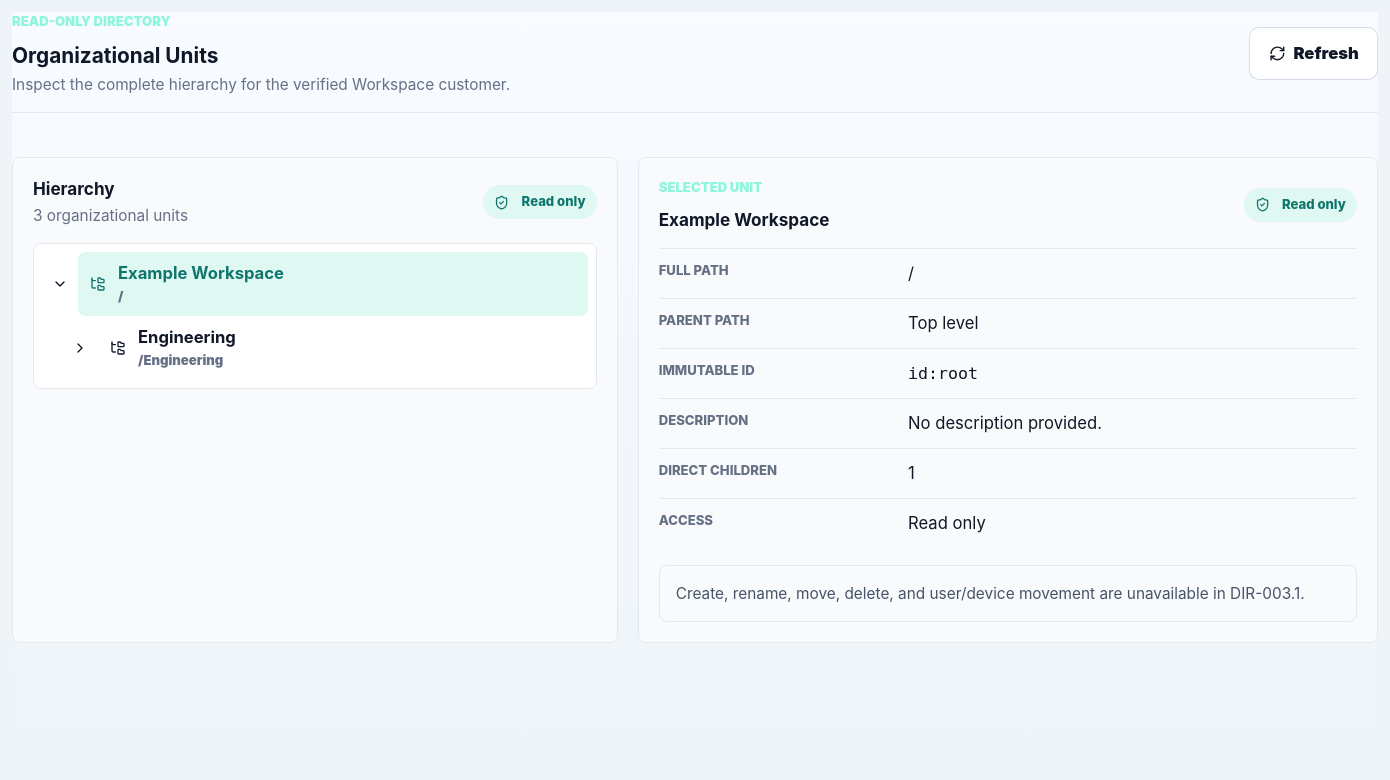
it: OrganizationalUnits › loads the full hierarchy, expands nodes and shows read-only details
Check: the element named "Organizational Units hierarchy" is shown, box [33,243,597,389]
Check: the text "3 organizational units" is shown, box [33,204,188,227]
Click the button named "Expand Engineering" at [80, 348], box [62,326,98,370]
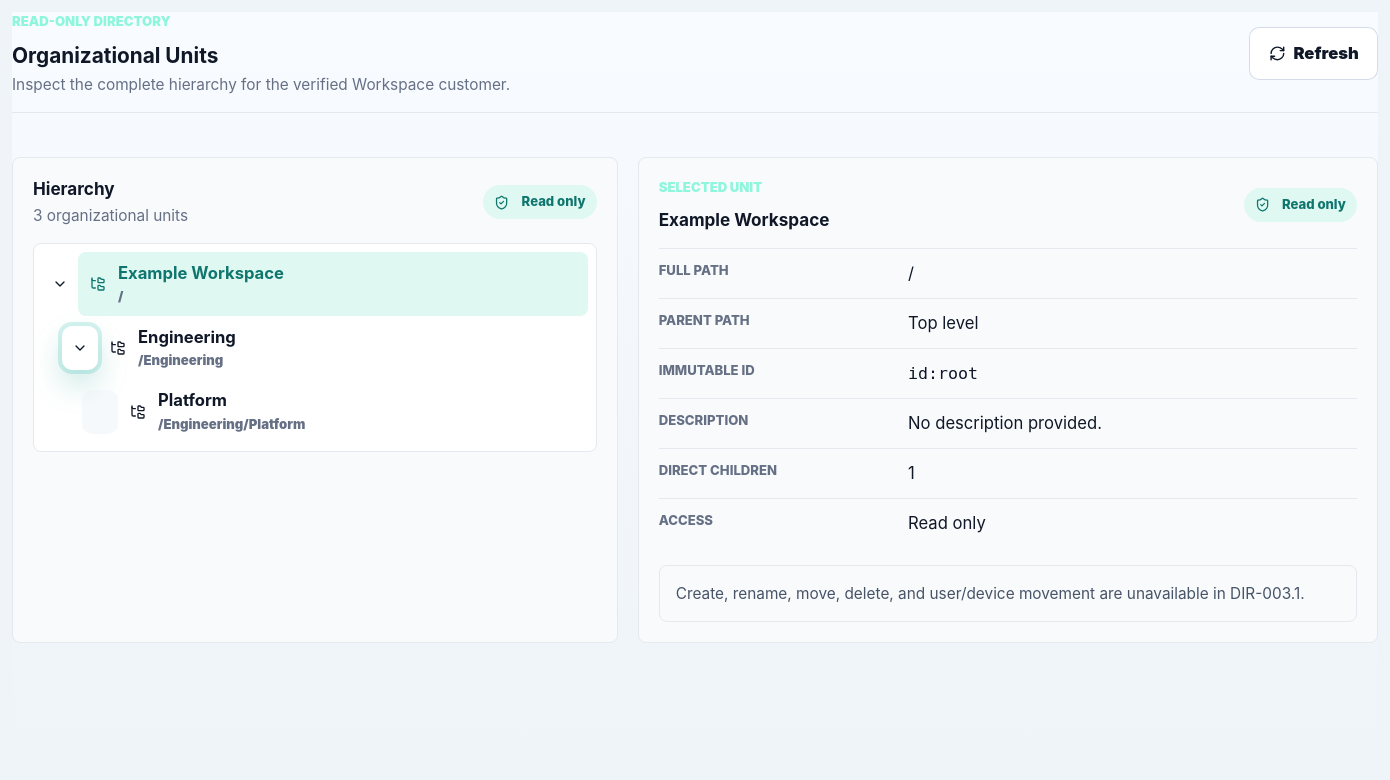
Click the list item with aria-label "Engineering (/Engineering)" at [187, 337], box [98,316,588,380]
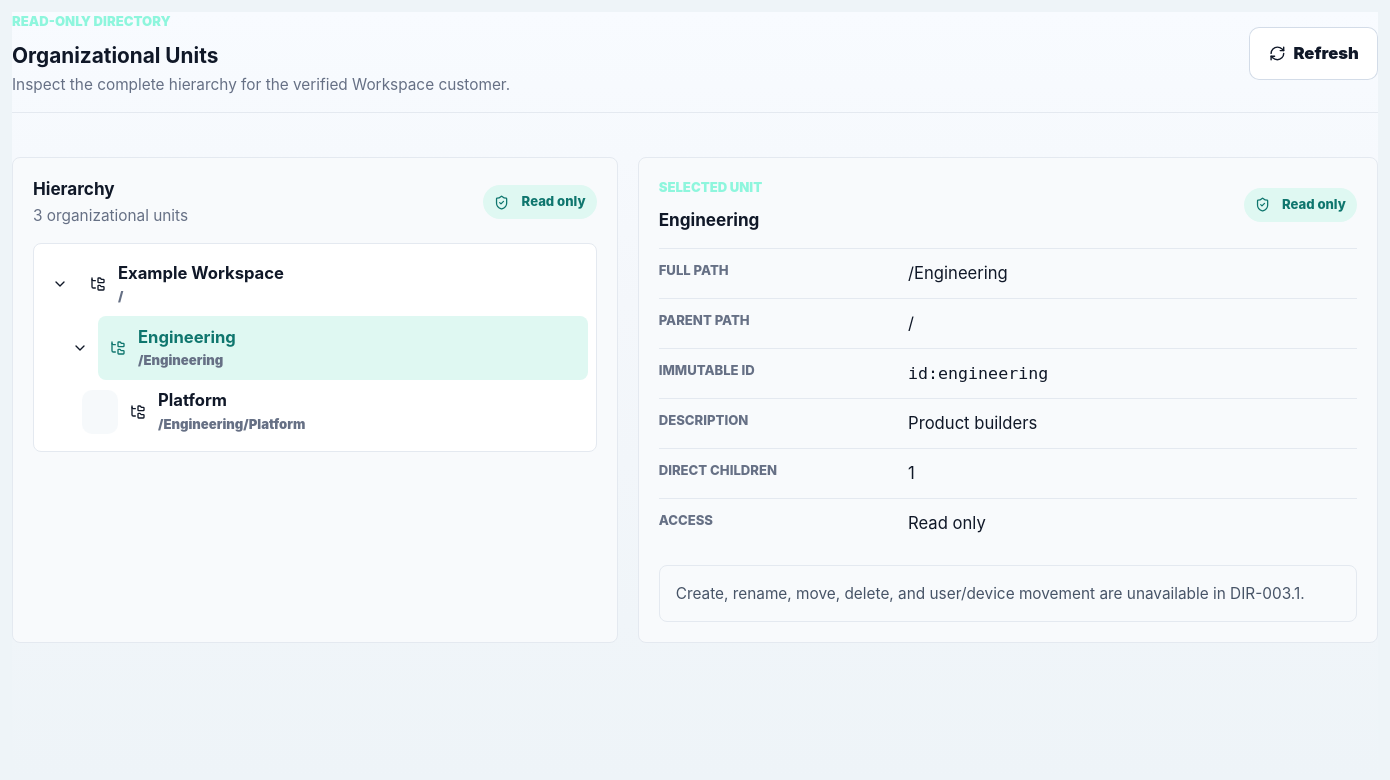
Check: the list item with aria-label "Platform (/Engineering/Platform)" is shown, box [118,380,588,443]
Check: the heading "Engineering" is shown, box [659,209,762,232]
Check: the text "Product builders" is shown, box [908,414,1037,434]
